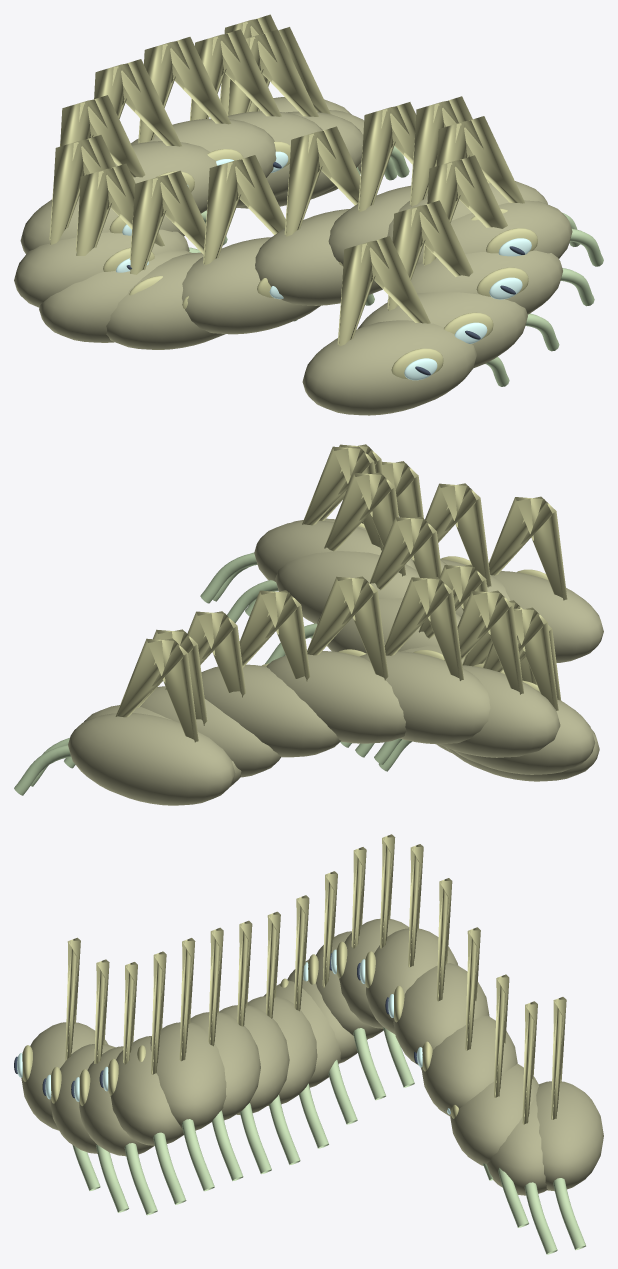
Rendered from bio_ribbon_colony_10_near.glb.
3 renders of one model, top to bottom at view 1: azimuth 30°, elevation 25°; view 2: azimuth 150°, elevation 25°; view 3: azimuth 270°, elevation 25°, orthographic. The views are drawn at different scales.
Parts seen in each view (by area): view 1: Overlapping folded ribbon, Overlapping folded ribbon.007, Overlapping folded ribbon.006, Overlapping folded ribbon.008, Raised pleated edge, Overlapping folded ribbon.010, Overlapping folded ribbon.009, Raised pleated edge.007, Overlapping folded ribbon.002, Raised pleated edge.008, Raised pleated edge.006, Overlapping folded ribbon.001 (+25 smaller); view 2: Overlapping folded ribbon.017, Overlapping folded ribbon.013, Overlapping folded ribbon.012, Overlapping folded ribbon.014, Overlapping folded ribbon.011, Overlapping folded ribbon.005, Overlapping folded ribbon, Raised pleated edge.012, Raised pleated edge.013, Raised pleated edge, Raised pleated edge.017, Raised pleated edge.014 (+21 smaller); view 3: Overlapping folded ribbon.004, Overlapping folded ribbon.017, Overlapping folded ribbon.014, Overlapping folded ribbon.013, Overlapping folded ribbon.015, Overlapping folded ribbon.003, Overlapping folded ribbon.012, Overlapping folded ribbon.005, Overlapping folded ribbon, Overlapping folded ribbon.006, Overlapping folded ribbon.007, Overlapping folded ribbon.016 (+39 smaller).
Boxes of the visible parts, x1,y1,x2,y2 form: Overlapping folded ribbon: [302, 320, 476, 415]; Overlapping folded ribbon.007: [182, 237, 320, 334]; Overlapping folded ribbon.006: [255, 209, 382, 305]; Overlapping folded ribbon.008: [106, 252, 225, 349]; Raised pleated edge: [337, 236, 443, 379]; Overlapping folded ribbon.010: [14, 229, 189, 307]; Overlapping folded ribbon.009: [39, 250, 191, 342]; Raised pleated edge.007: [203, 155, 285, 297]; Overlapping folded ribbon.002: [387, 250, 562, 314]; Raised pleated edge.008: [129, 170, 205, 308]; Raised pleated edge.006: [284, 126, 360, 265]; Overlapping folded ribbon.001: [358, 292, 527, 368]; Overlapping folded ribbon.017: [68, 712, 235, 805]; Overlapping folded ribbon.013: [266, 651, 406, 743]; Overlapping folded ribbon.012: [359, 651, 490, 744]; Overlapping folded ribbon.014: [201, 664, 340, 757]; Overlapping folded ribbon.011: [439, 665, 560, 757]; Overlapping folded ribbon.005: [275, 551, 419, 623]; Overlapping folded ribbon: [492, 571, 603, 662]; Raised pleated edge.012: [384, 577, 463, 680]; Raised pleated edge.013: [307, 576, 388, 680]; Raised pleated edge: [488, 496, 567, 600]; Raised pleated edge.017: [115, 638, 198, 742]; Raised pleated edge.014: [239, 590, 310, 681]; Overlapping folded ribbon.004: [150, 1022, 226, 1130]; Overlapping folded ribbon.017: [536, 1081, 603, 1191]; Overlapping folded ribbon.014: [421, 1015, 517, 1116]; Overlapping folded ribbon.013: [393, 963, 489, 1065]; Overlapping folded ribbon.015: [450, 1063, 538, 1165]; Overlapping folded ribbon.003: [110, 1036, 183, 1145]; Overlapping folded ribbon.012: [366, 928, 458, 1034]; Overlapping folded ribbon.005: [190, 1012, 260, 1120]; Overlapping folded ribbon: [21, 1022, 108, 1130]; Overlapping folded ribbon.006: [219, 1005, 289, 1114]; Overlapping folded ribbon.007: [247, 996, 317, 1105]; Overlapping folded ribbon.016: [487, 1096, 547, 1195].
Bounding box in the file's own units: 2.82 × 1.38 × 3.04.
